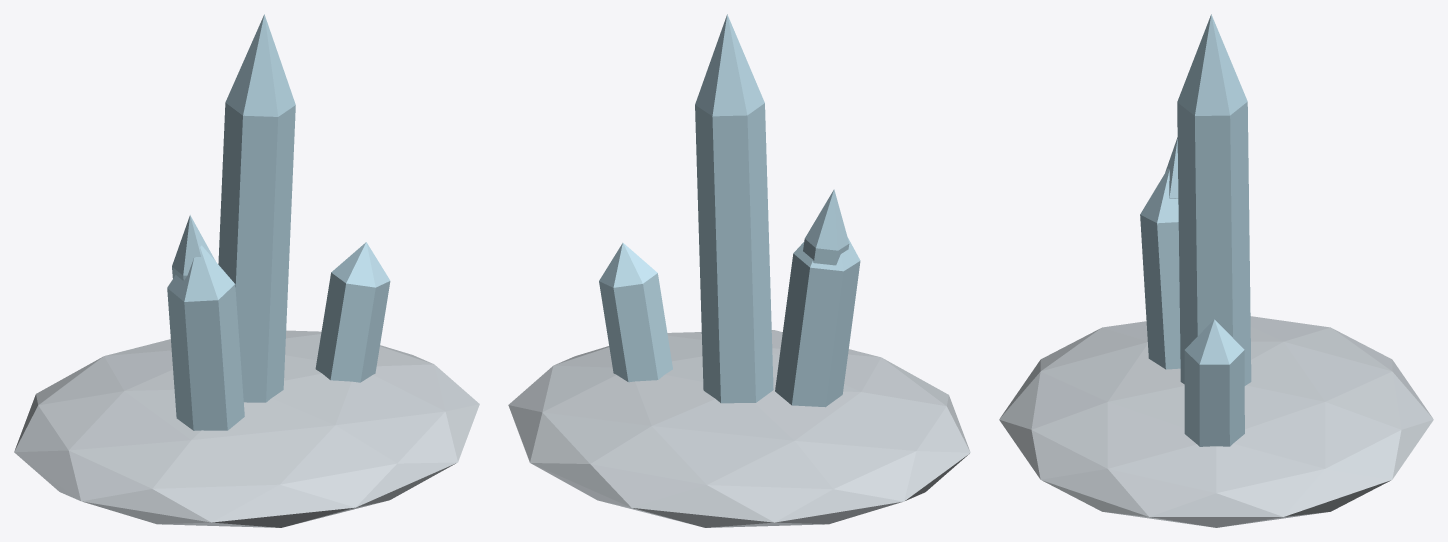
The model's file is runtime.glb.
3 views of the same model, side by side, from view 1: azimuth 30°, elevation 25°; view 2: azimuth 150°, elevation 25°; view 3: azimuth 270°, elevation 25° (orthographic).
Visible parts, largest first — view 1: frozen_crystal_snow_noshadow_nocol, frozen_crystal_ice_nocol; view 2: frozen_crystal_snow_noshadow_nocol, frozen_crystal_ice_nocol; view 3: frozen_crystal_snow_noshadow_nocol, frozen_crystal_ice_nocol.
Part boxes in pixels (x1,y1,x2,y2): frozen_crystal_snow_noshadow_nocol: [14, 330, 479, 527]; frozen_crystal_ice_nocol: [167, 14, 390, 430]; frozen_crystal_snow_noshadow_nocol: [508, 330, 970, 527]; frozen_crystal_ice_nocol: [599, 14, 860, 407]; frozen_crystal_snow_noshadow_nocol: [999, 316, 1433, 527]; frozen_crystal_ice_nocol: [1140, 14, 1251, 446].
Size of the model in its own units: 3.31 by 3.59 by 3.12.
